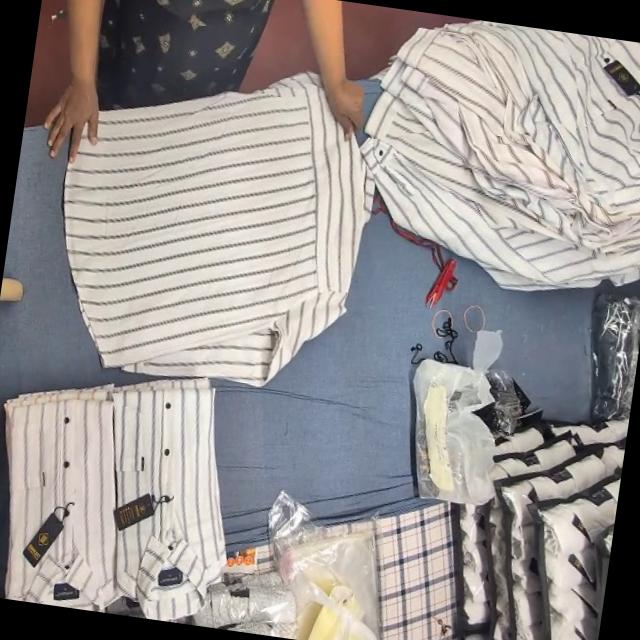new-garment: (64, 73, 373, 385)
